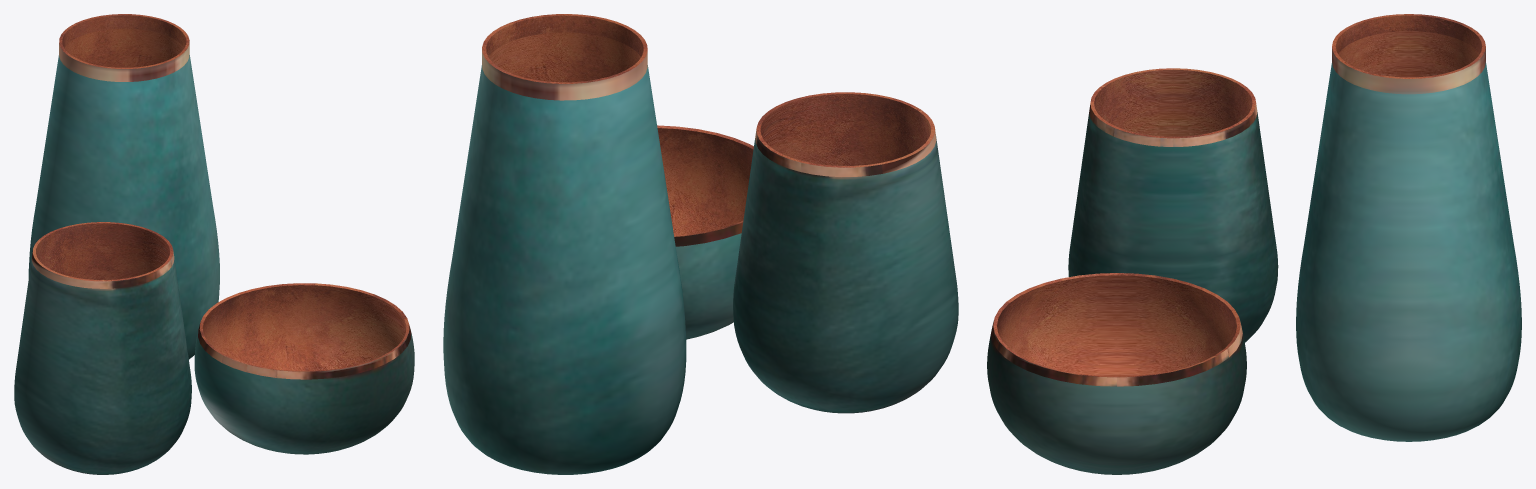
File: asset.glb
3 renders of one model, left to right at view 1: azimuth 30°, elevation 25°; view 2: azimuth 150°, elevation 25°; view 3: azimuth 270°, elevation 25°, orthographic. The views are drawn at different scales.
Visible parts, largest first — view 1: Mesh1_M_55a134d1f6d1699af7b95f0793bc7770_0, Mesh3_M_55a134d1f6d1699af7b95f0793bc7770_0, Mesh2_M_55a134d1f6d1699af7b95f0793bc7770_0, Mesh2_M_20988430_476041629436834_7756201395761996903_o_0, Mesh1_M_20988430_476041629436834_7756201395761996903_o_0, Mesh3_M_20988430_476041629436834_7756201395761996903_o_0; view 2: Mesh3_M_55a134d1f6d1699af7b95f0793bc7770_0, Mesh1_M_55a134d1f6d1699af7b95f0793bc7770_0, Mesh1_M_20988430_476041629436834_7756201395761996903_o_0, Mesh3_M_20988430_476041629436834_7756201395761996903_o_0, Mesh2_M_20988430_476041629436834_7756201395761996903_o_0, Mesh2_M_55a134d1f6d1699af7b95f0793bc7770_0; view 3: Mesh3_M_55a134d1f6d1699af7b95f0793bc7770_0, Mesh1_M_55a134d1f6d1699af7b95f0793bc7770_0, Mesh2_M_55a134d1f6d1699af7b95f0793bc7770_0, Mesh2_M_20988430_476041629436834_7756201395761996903_o_0, Mesh1_M_20988430_476041629436834_7756201395761996903_o_0, Mesh3_M_20988430_476041629436834_7756201395761996903_o_0.
Part boxes in pixels (x1=…): Mesh1_M_55a134d1f6d1699af7b95f0793bc7770_0: x1=14, y1=250, x2=191, y2=474; Mesh3_M_55a134d1f6d1699af7b95f0793bc7770_0: x1=28, y1=41, x2=219, y2=359; Mesh2_M_55a134d1f6d1699af7b95f0793bc7770_0: x1=194, y1=323, x2=414, y2=454; Mesh2_M_20988430_476041629436834_7756201395761996903_o_0: x1=199, y1=283, x2=409, y2=371; Mesh1_M_20988430_476041629436834_7756201395761996903_o_0: x1=32, y1=222, x2=173, y2=281; Mesh3_M_20988430_476041629436834_7756201395761996903_o_0: x1=59, y1=14, x2=189, y2=68; Mesh3_M_55a134d1f6d1699af7b95f0793bc7770_0: x1=443, y1=48, x2=686, y2=474; Mesh1_M_55a134d1f6d1699af7b95f0793bc7770_0: x1=733, y1=127, x2=958, y2=413; Mesh1_M_20988430_476041629436834_7756201395761996903_o_0: x1=756, y1=92, x2=934, y2=167; Mesh3_M_20988430_476041629436834_7756201395761996903_o_0: x1=482, y1=14, x2=647, y2=83; Mesh2_M_20988430_476041629436834_7756201395761996903_o_0: x1=657, y1=125, x2=753, y2=236; Mesh2_M_55a134d1f6d1699af7b95f0793bc7770_0: x1=674, y1=222, x2=743, y2=339; Mesh3_M_55a134d1f6d1699af7b95f0793bc7770_0: x1=1296, y1=47, x2=1521, y2=441; Mesh1_M_55a134d1f6d1699af7b95f0793bc7770_0: x1=1068, y1=104, x2=1278, y2=342; Mesh2_M_55a134d1f6d1699af7b95f0793bc7770_0: x1=987, y1=319, x2=1246, y2=474; Mesh2_M_20988430_476041629436834_7756201395761996903_o_0: x1=993, y1=273, x2=1240, y2=377; Mesh1_M_20988430_476041629436834_7756201395761996903_o_0: x1=1090, y1=68, x2=1256, y2=138; Mesh3_M_20988430_476041629436834_7756201395761996903_o_0: x1=1332, y1=14, x2=1485, y2=78.
Bounding box in the file's own units: 1.09 × 0.9181 × 1.22.
2 materials, 2 textured.
